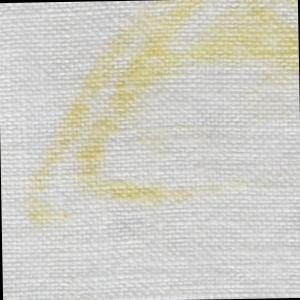Stain: (20, 1, 300, 230)
